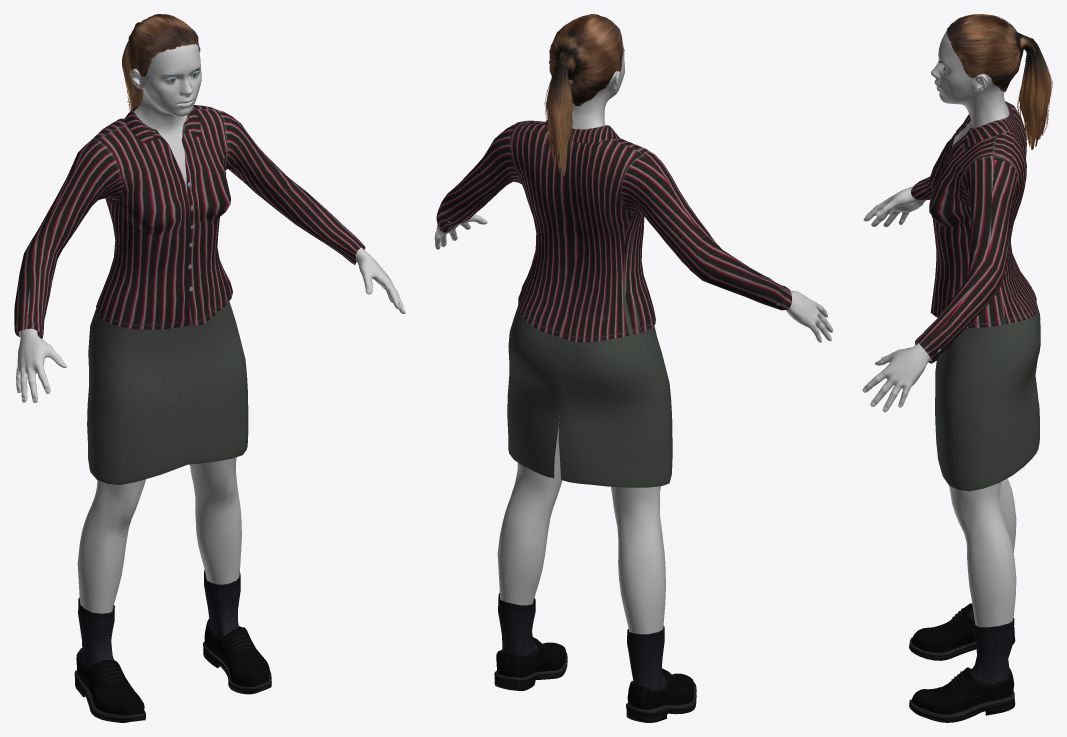
The model's file is ZHENSHINA.fbx.
The picture shows the model from 3 angles, left to right: view 1: azimuth 30°, elevation 25°; view 2: azimuth 150°, elevation 25°; view 3: azimuth 270°, elevation 25°; orthographic projection. The views are drawn at different scales.
Parts seen in each view (by area): view 1: female_elegantsuit01Mesh, zhenshinaMesh, shoes03Mesh, ponytail01Mesh; view 2: female_elegantsuit01Mesh, zhenshinaMesh, shoes03Mesh, ponytail01Mesh; view 3: female_elegantsuit01Mesh, zhenshinaMesh, shoes03Mesh, ponytail01Mesh.
Part boxes in pixels (bbox=[...]): female_elegantsuit01Mesh: bbox=[14, 105, 365, 484]; zhenshinaMesh: bbox=[16, 43, 405, 613]; shoes03Mesh: bbox=[74, 570, 271, 722]; ponytail01Mesh: bbox=[122, 14, 200, 110]; female_elegantsuit01Mesh: bbox=[436, 120, 791, 487]; zhenshinaMesh: bbox=[434, 43, 833, 634]; shoes03Mesh: bbox=[494, 593, 696, 722]; ponytail01Mesh: bbox=[544, 14, 623, 176]; female_elegantsuit01Mesh: bbox=[911, 101, 1040, 491]; zhenshinaMesh: bbox=[862, 31, 1016, 627]; shoes03Mesh: bbox=[909, 603, 1015, 722]; ponytail01Mesh: bbox=[946, 14, 1052, 149].
Size of the model in its own units: 110 by 185 by 47.76.
